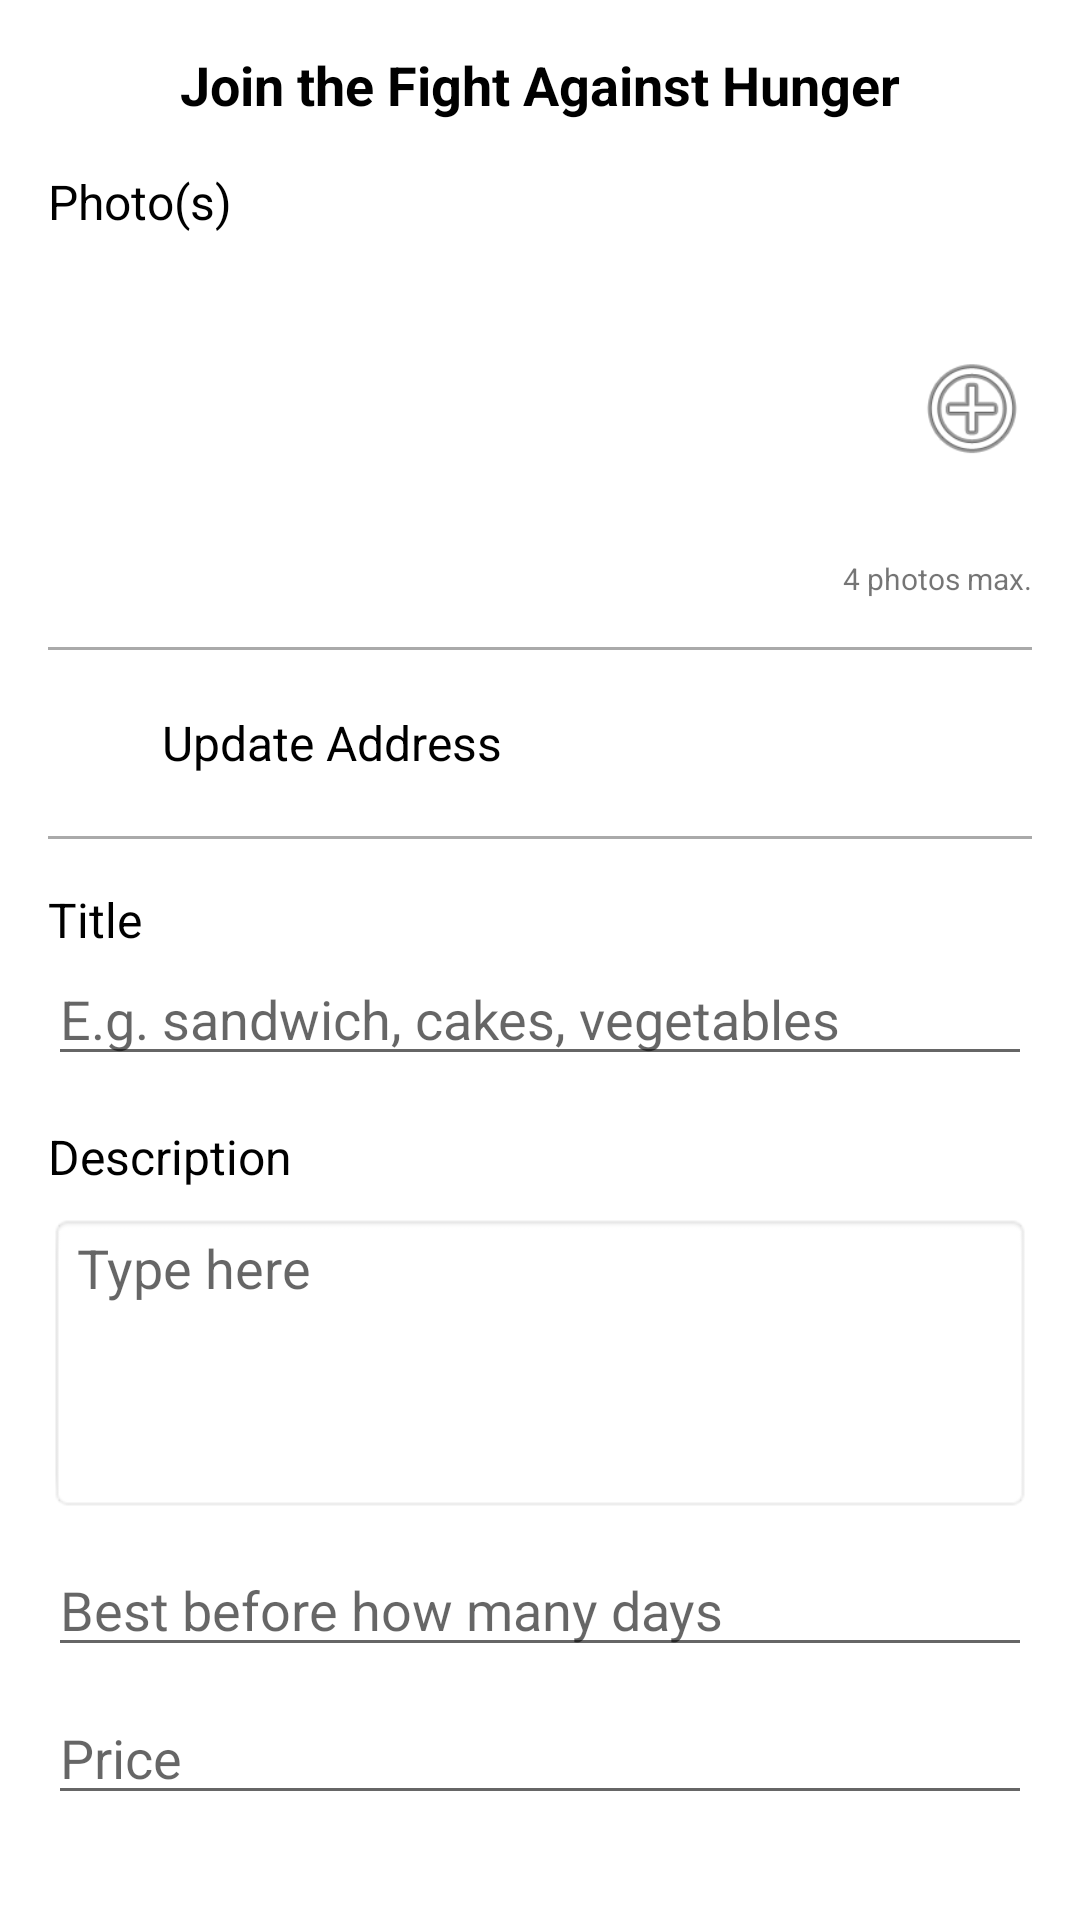

Where to tap for icons on this 1080x1920 app screen, as (x,y):
add: (972,408)
